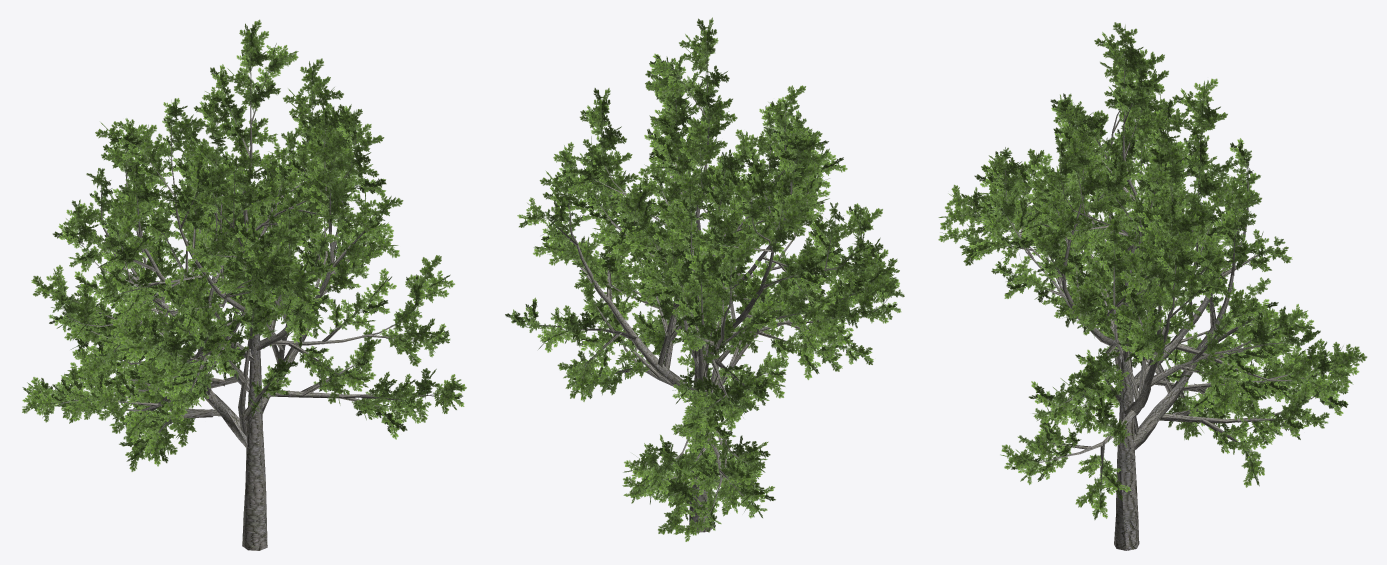
The model's file is tree_near.glb.
The picture shows the model from 3 angles, left to right: view 1: azimuth 30°, elevation 25°; view 2: azimuth 150°, elevation 25°; view 3: azimuth 270°, elevation 25°; orthographic projection. The views are drawn at different scales.
Visible parts, largest first — view 1: Oak full canopy; view 2: Oak full canopy; view 3: Oak full canopy.
Part boxes in pixels (bbox=[...]): Oak full canopy: bbox=[22, 19, 466, 550]; Oak full canopy: bbox=[505, 17, 904, 541]; Oak full canopy: bbox=[938, 22, 1367, 550].
Bounding box in the file's own units: 7.71 × 10 × 7.6.
Materials: 2 (2 with a texture image).
